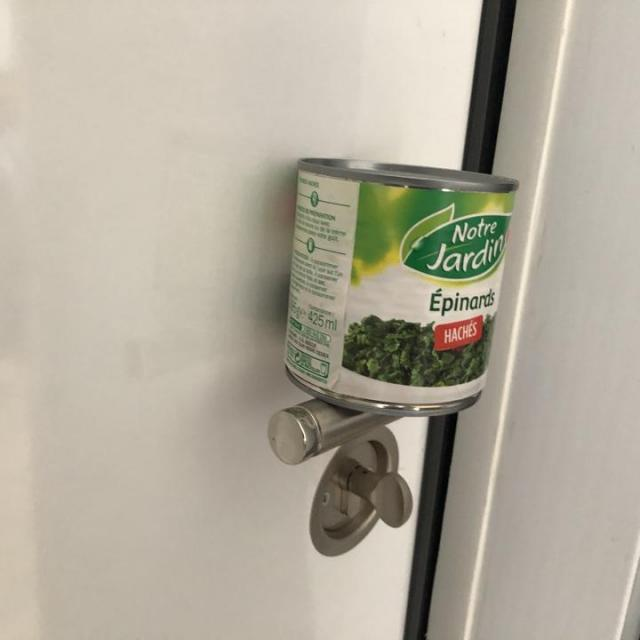recyclable: (272, 143, 527, 420)
